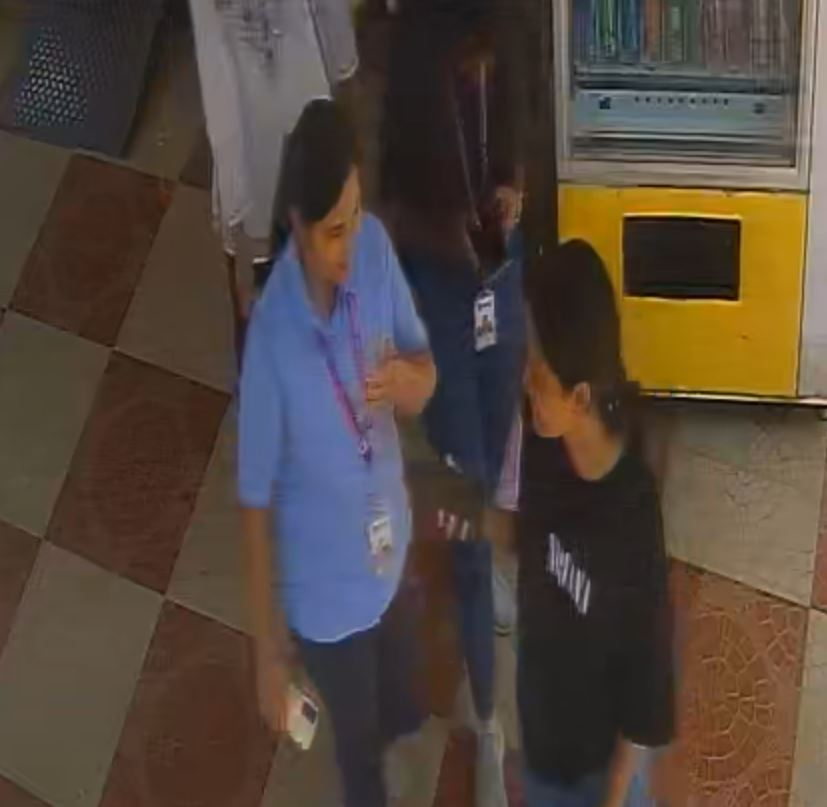intruder: (230, 85, 436, 807)
not intruder: (506, 242, 678, 807)
